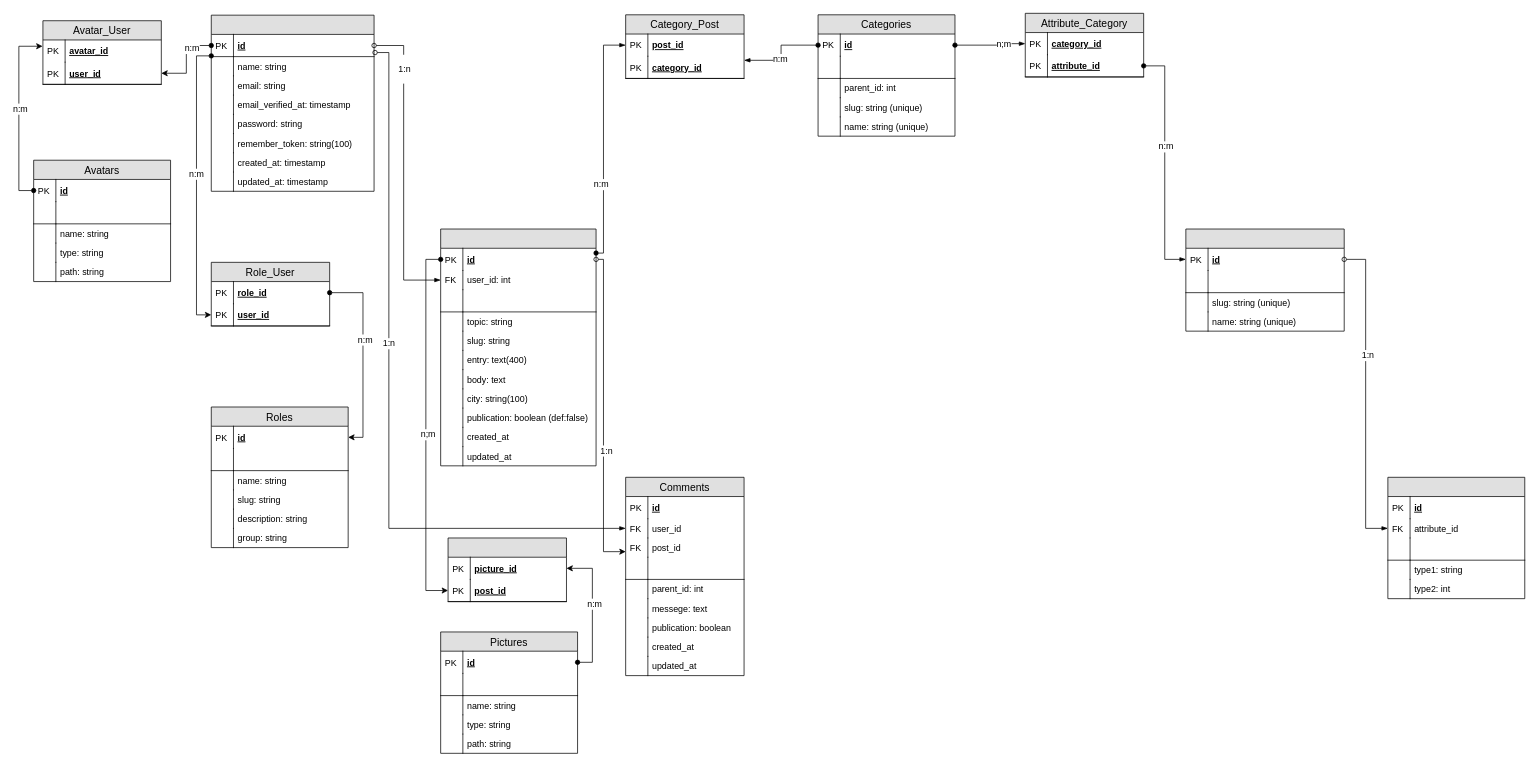
The diagram is 1538 pixels wide and 768 high, and some of its shapes have lost their labels. Here are the shapes that lost their labels. From the top down, the box of each, then its label:
(211, 14, 374, 191): Users
(1185, 228, 1344, 331): Attributes
(440, 228, 596, 466): Posts
(1387, 477, 1525, 599): ValueAttributes
(447, 537, 566, 602): Picture_Post
